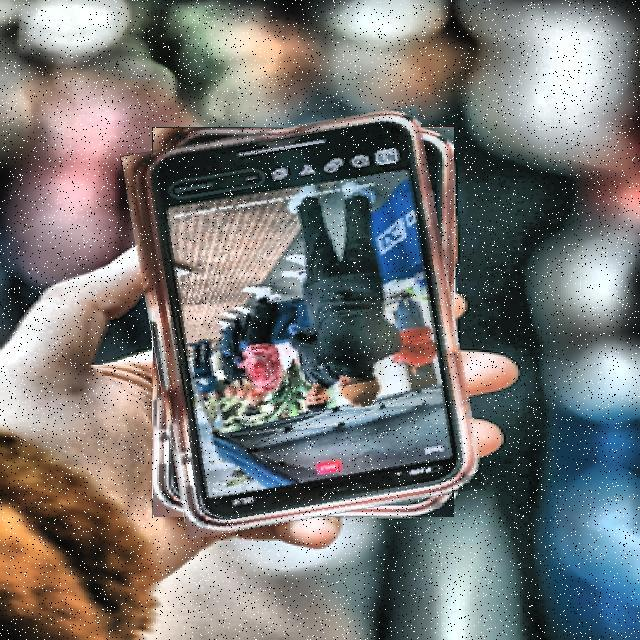Phone: (136, 116, 470, 528)
